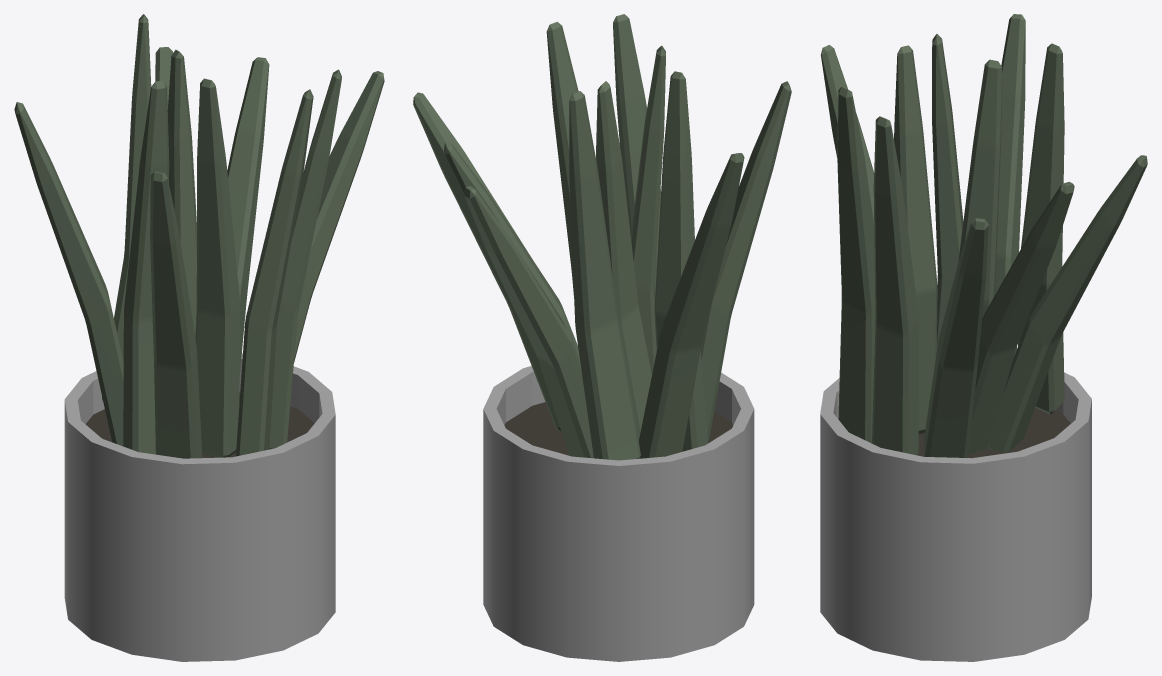
Rendered from plant.fbx.
3 renders of one model, left to right at view 1: azimuth 30°, elevation 25°; view 2: azimuth 150°, elevation 25°; view 3: azimuth 270°, elevation 25°, orthographic.
Visible parts, largest first — view 1: Sage, Pot, Dirt; view 2: Sage, Pot, Dirt; view 3: Sage, Pot, Dirt.
Boxes of the visible parts, x1,y1,x2,y2 form: Sage: (14, 14, 384, 458); Pot: (64, 353, 335, 661); Dirt: (85, 392, 314, 457); Sage: (413, 14, 791, 460); Pot: (483, 366, 754, 661); Dirt: (504, 402, 733, 455); Sage: (821, 14, 1147, 457); Pot: (820, 372, 1091, 661); Dirt: (916, 408, 1070, 458).
Bounding box in the file's own units: 77.47 × 118 × 62.8.
